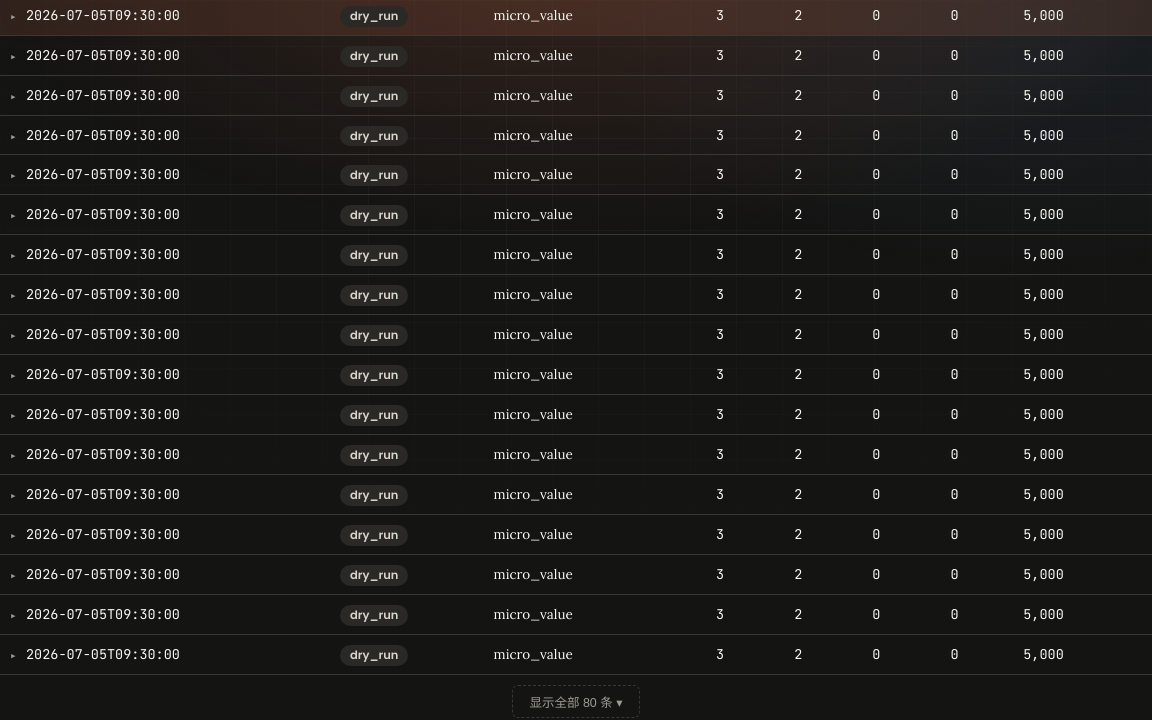
Test: CyclesTable › 点击"显示全部"后展示全部行, 按钮保持常驻并切换为"收起"(不消失)
The image size is (1152, 720).
(page scrolled)
Click the button with test id "cycles-expand". click: (576, 701)
box: [512, 685, 640, 718]
(page scrolled)
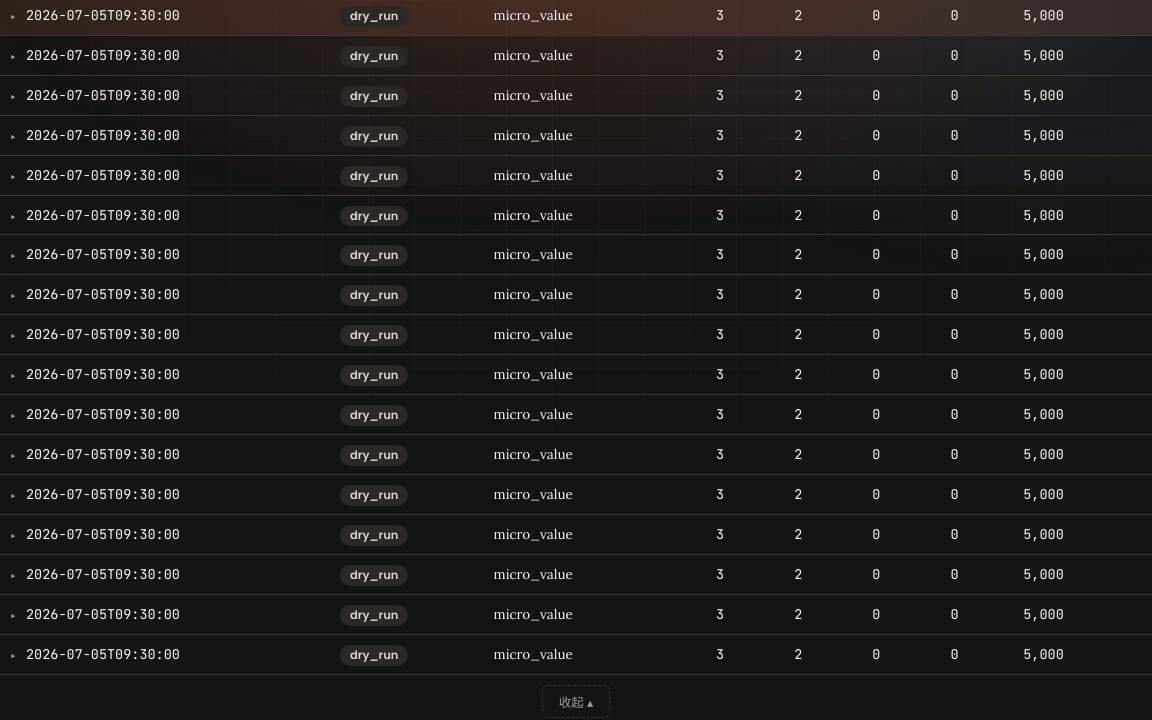
Check: the button with test id "cycles-expand" shows "收起", box [542, 685, 610, 718]
